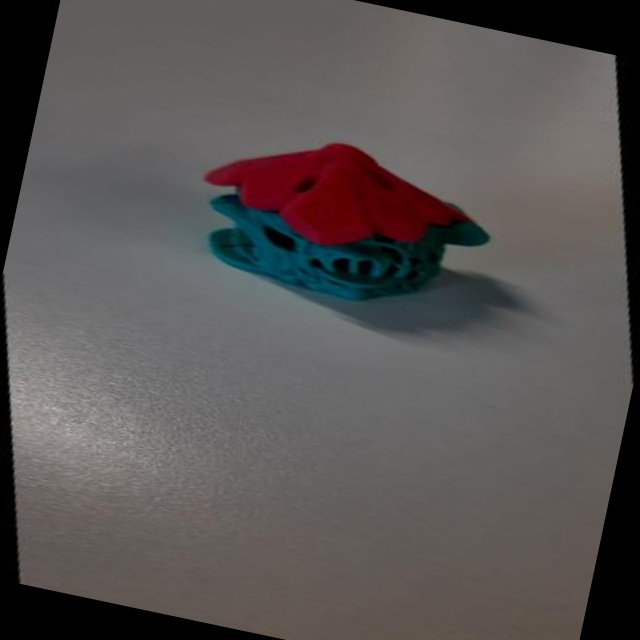House: (135, 80, 579, 396)
